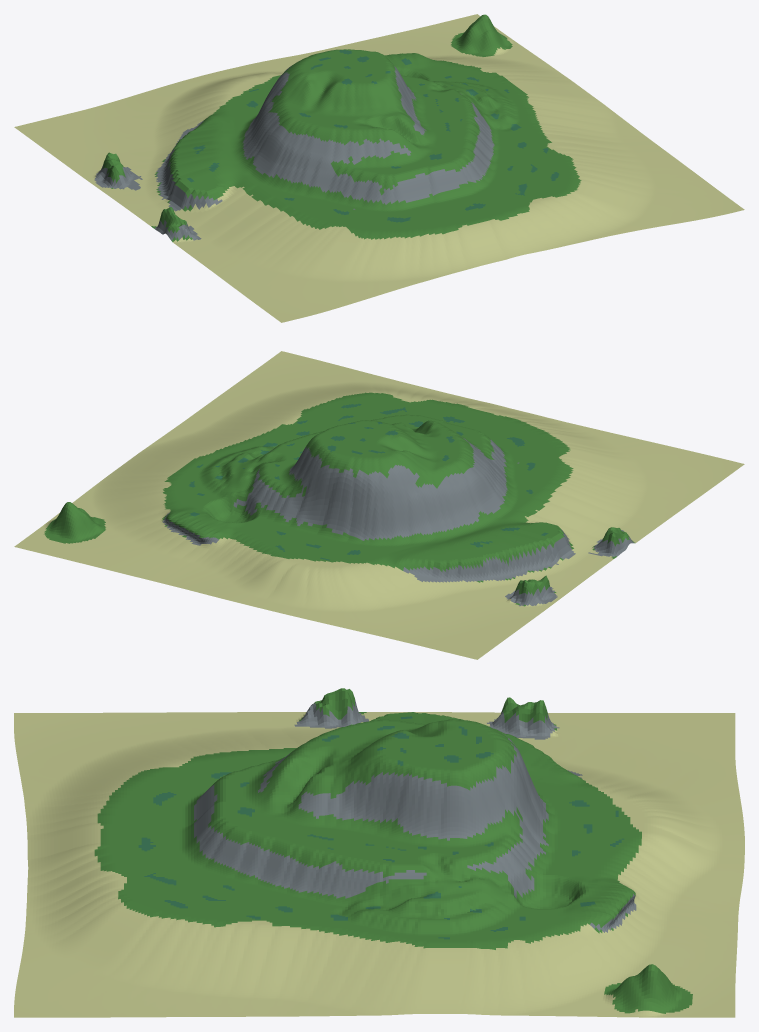
Rendered from IslandAttempt4.fbx.
3 renders of one model, top to bottom at view 1: azimuth 30°, elevation 25°; view 2: azimuth 150°, elevation 25°; view 3: azimuth 270°, elevation 25°, orthographic. The views are drawn at different scales.
Parts seen in each view (by area): view 1: Island4; view 2: Island4; view 3: Island4.
Boxes of the visible parts, left/top/right/bottom form: Island4: left=14, top=14, right=744, bottom=322; Island4: left=14, top=351, right=744, bottom=659; Island4: left=14, top=688, right=744, bottom=1017.
Bounding box in the file's own units: 30.4 × 30.03 × 5.27.
